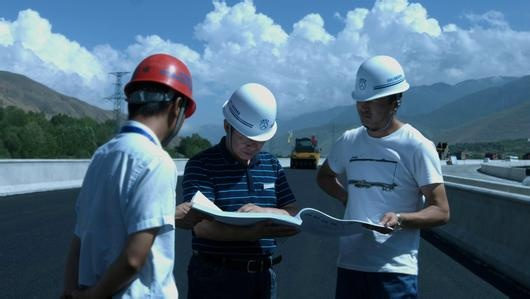red: (119, 48, 197, 143)
white: (219, 78, 279, 161), (350, 51, 407, 132)
